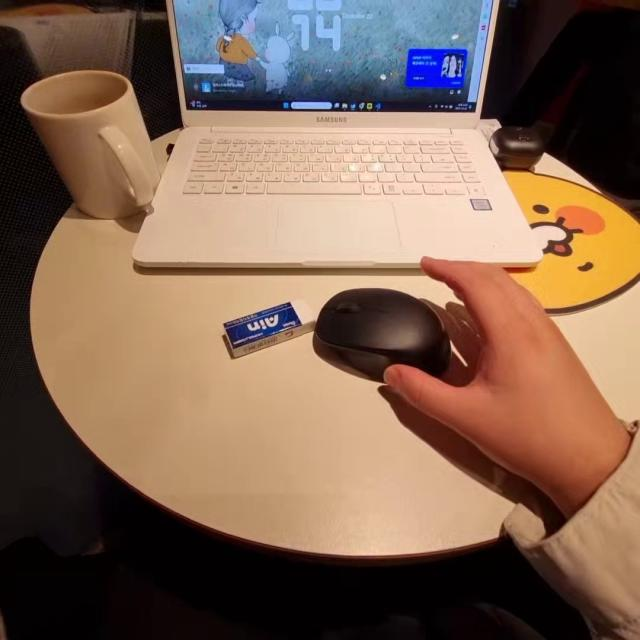eraser: (218, 289, 307, 361)
grab_mouse: (322, 271, 622, 492)
hand: (409, 244, 602, 501)
mouse: (308, 279, 458, 377)
